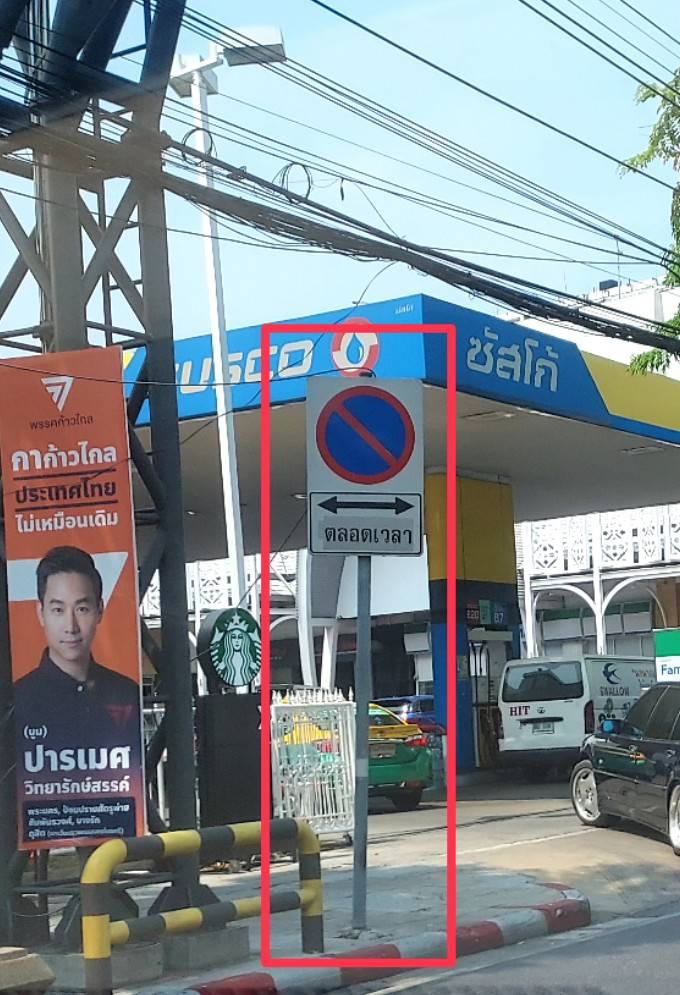Banner: (0, 338, 166, 854)
